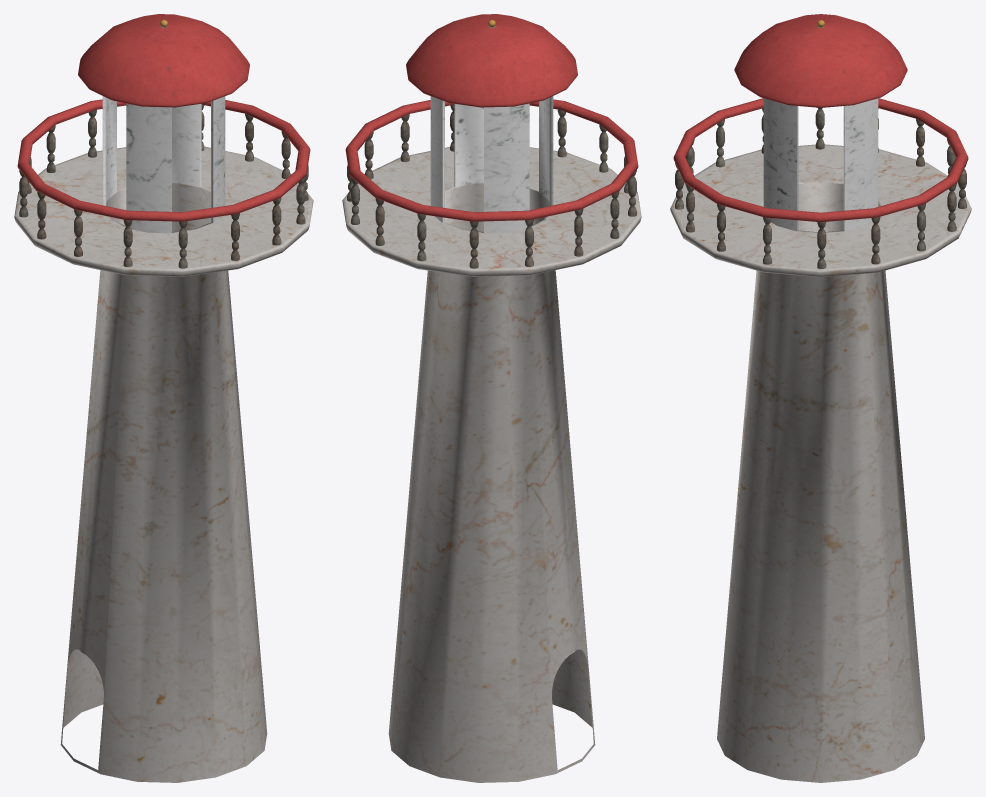
File: Top.fbx
3 views of the same model, side by side, from view 1: azimuth 30°, elevation 25°; view 2: azimuth 150°, elevation 25°; view 3: azimuth 270°, elevation 25° (orthographic).
Visible parts, largest first — view 1: Top_Baked; view 2: Top_Baked; view 3: Top_Baked.
Boxes of the visible parts, x1,y1,x2,y2 form: Top_Baked: (14,14,313,782); Top_Baked: (342,14,641,782); Top_Baked: (670,14,971,782).
Size of the model in its own units: 636 by 1670 by 636.
1 material, 1 textured.
